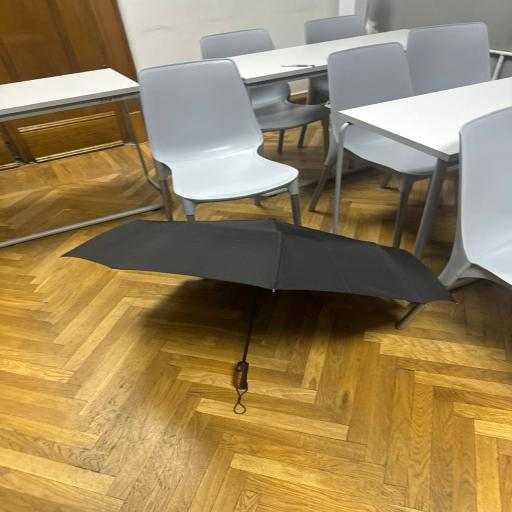bus: (139, 59, 300, 223), (310, 43, 436, 246), (439, 108, 511, 289), (407, 23, 491, 94), (407, 23, 490, 94), (248, 83, 329, 151), (305, 15, 366, 44)
corridor: (0, 0, 135, 83)
stroller: (339, 78, 511, 257), (0, 69, 159, 188), (230, 30, 409, 87), (230, 30, 409, 86)
